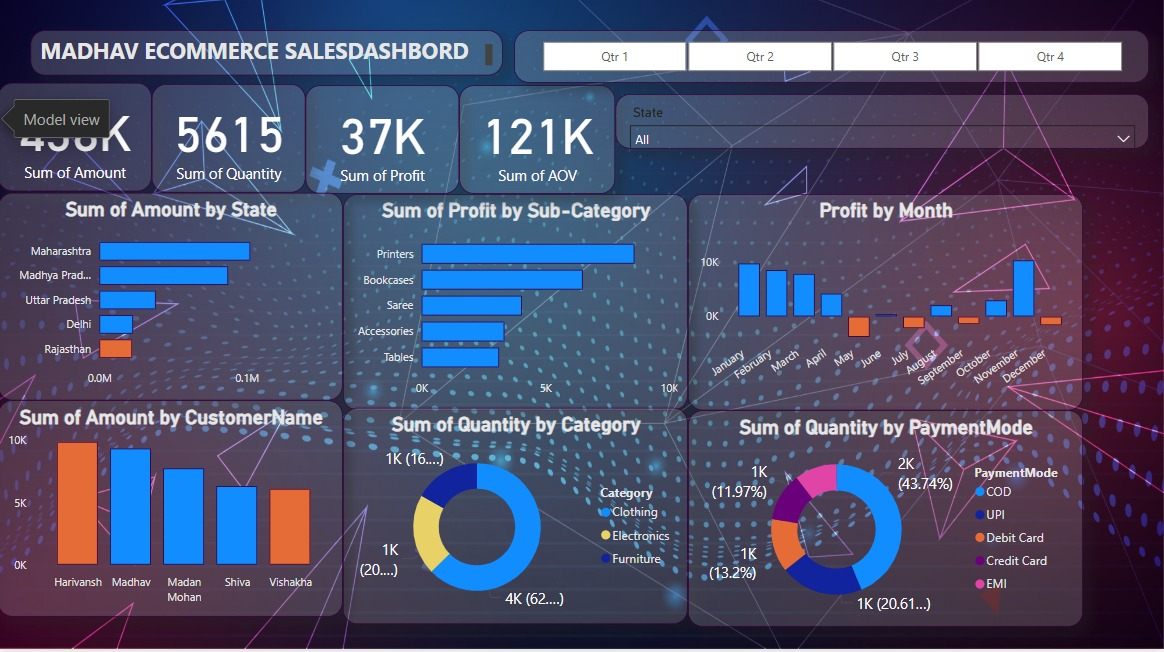

What the dashboard file says about the page in this screenshot:
{"tool":"powerbi","page":{"name":"Page 1","canvas":[1280,720],"ordinal":0},"visuals":[{"type":"textbox","box":[35.7,39.8,518.7,49.4],"z":0},{"type":"columnChart","title":" Profit by Month","fields":{"Category":["Orders.Order Date.Variation.Date Hierarchy.Month"],"Y":["Details.Profit"]},"box":[757.5,219.6,433.6,237.4],"z":1000},{"type":"barChart","fields":{"Category":["Details.Sub-Category"],"Y":["Details.Profit"]},"box":[378.7,219.6,378.7,237.4],"z":2000},{"type":"donutChart","fields":{"Category":["Details.Category"],"Y":["Details.Quantity"]},"box":[378.7,454.2,378.7,237.4],"z":3000},{"type":"donutChart","fields":{"Y":["Details.Quantity"],"Category":["Details.PaymentMode"]},"box":[757.5,456.9,433.6,237.4],"z":4000},{"type":"card","fields":{"Values":["Details.Amount"]},"box":[0,97.4,168.8,119.4],"z":5000},{"type":"card","fields":{"Values":["Details.Quantity"]},"box":[168.8,98.8,168.8,119.4],"z":6000},{"type":"card","fields":{"Values":["Details.Profit"]},"box":[337.6,100.2,168.8,119.4],"z":7000},{"type":"card","fields":{"Values":["Details.AOV"]},"box":[506.3,100.2,171.5,119.4],"z":8000},{"type":"barChart","fields":{"Category":["Orders.State"],"Y":["Details.Amount"]},"box":[0,218.2,378.7,227.8],"z":9000},{"type":"columnChart","fields":{"Category":["Orders.CustomerName"],"Y":["Details.Amount"]},"box":[0,446,378.7,237.4],"z":10000},{"type":"slicer","fields":{"Values":["Orders.Order Date.Variation.Date Hierarchy.Quarter"]},"box":[566.7,39.8,697.1,57.6],"z":11000},{"type":"slicer","fields":{"Values":["Orders.State"]},"box":[677.9,109.8,585.9,60.4],"z":12000}]}

Visuals, with their boxes on the page's 1280x720 design canvas (x1, y1, x2, y2). These are canvas units, not pixel positions in the 1164x652 screenshot, which may show the page scaled, cropped or inside an application window:
textbox: (36,40,554,89)
" Profit by Month" columnChart: (758,220,1191,457)
barChart - Details.Sub-Category x Details.Profit: (379,220,757,457)
donutChart - Details.Category x Details.Quantity: (379,454,757,692)
donutChart - Details.Quantity x Details.PaymentMode: (758,457,1191,694)
card - Details.Amount: (0,97,169,217)
card - Details.Quantity: (169,99,338,218)
card - Details.Profit: (338,100,506,220)
card - Details.AOV: (506,100,678,220)
barChart - Orders.State x Details.Amount: (0,218,379,446)
columnChart - Orders.CustomerName x Details.Amount: (0,446,379,683)
slicer - Orders.Order Date.Variation.Date Hierarchy.Quarter: (567,40,1264,97)
slicer - Orders.State: (678,110,1264,170)
